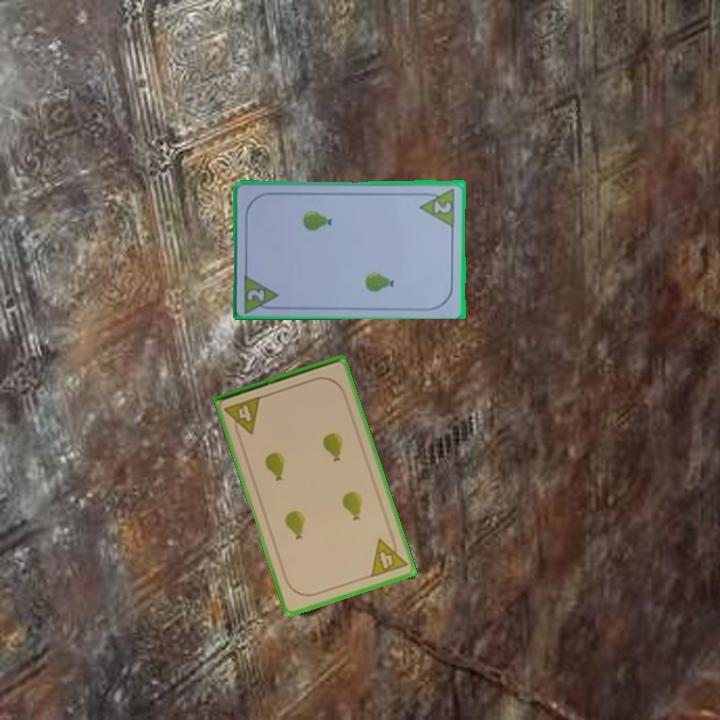2p: (431, 198, 454, 216), (244, 286, 267, 304)
4p: (367, 531, 410, 580), (221, 393, 264, 440)
